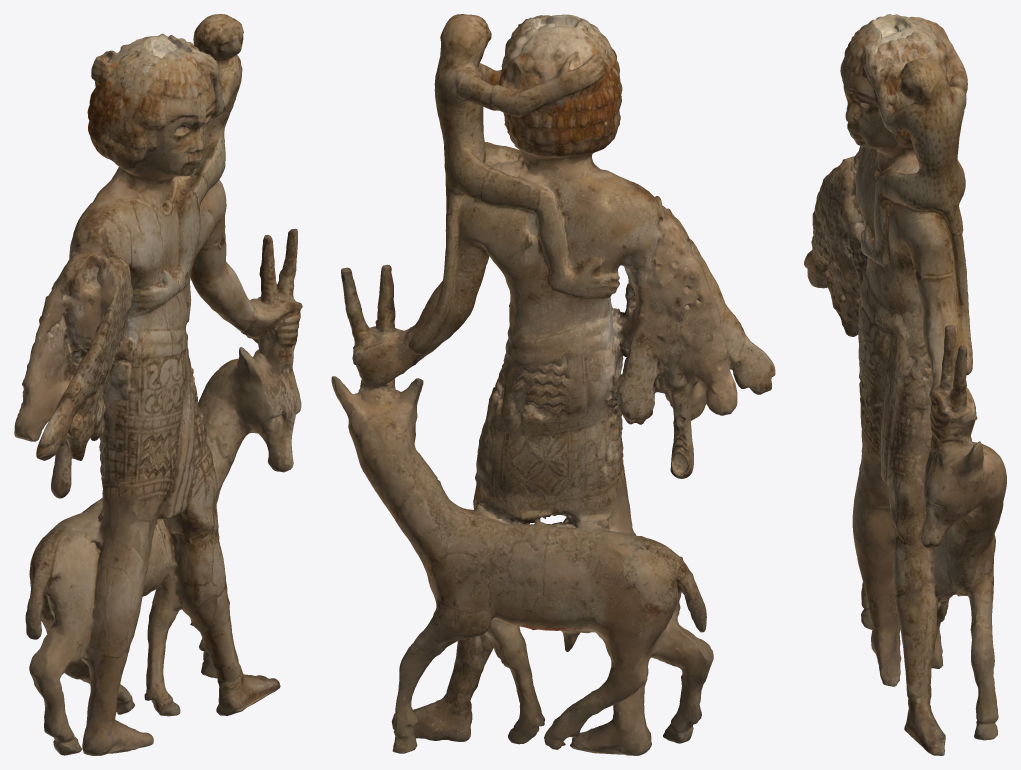
Rendered from preview.glb.
3 views of the same model, side by side, from view 1: azimuth 30°, elevation 25°; view 2: azimuth 150°, elevation 25°; view 3: azimuth 270°, elevation 25° (orthographic). The views are drawn at different scales.
Parts seen in each view (by area): view 1: _n3d2; view 2: _n3d2; view 3: _n3d2.
Boxes of the visible parts, x1=… form: _n3d2: x1=14, y1=14, x2=302, y2=755; _n3d2: x1=331, y1=14, x2=775, y2=755; _n3d2: x1=804, y1=14, x2=1006, y2=755.
Size of the model in its own units: 0.0694 by 0.1361 by 0.0371.
Materials: 1 (1 with a texture image).
